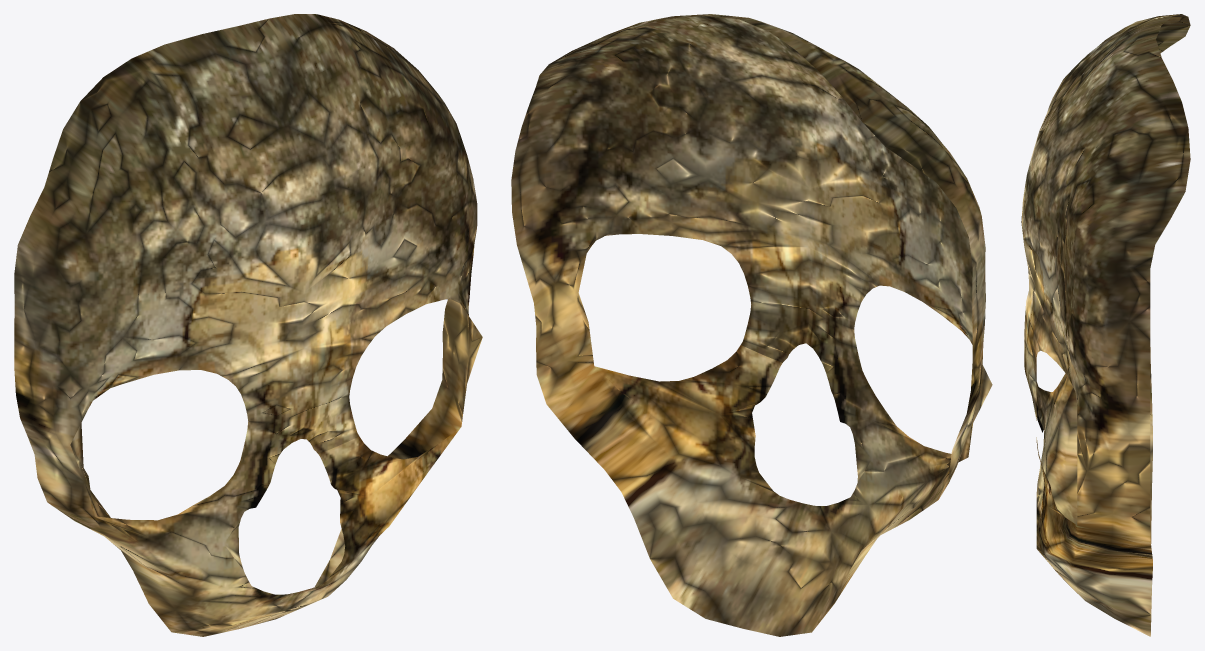
Rendered from skull1.obj.
The picture shows the model from 3 angles, left to right: view 1: azimuth 30°, elevation 25°; view 2: azimuth 150°, elevation 25°; view 3: azimuth 270°, elevation 25°; orthographic projection. The views are drawn at different scales.
Parts seen in each view (by area): view 1: skulls; view 2: skulls; view 3: skulls.
Part boxes in pixels (bbox=[...]): skulls: bbox=[14, 14, 482, 636]; skulls: bbox=[511, 14, 992, 636]; skulls: bbox=[1021, 14, 1190, 636].
Bounding box in the file's own units: 16.25 × 20.58 × 5.45.
Materials: 1 (1 with a texture image).
